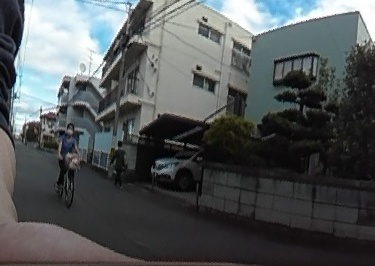person: (57, 120, 78, 200), (111, 138, 126, 189)
